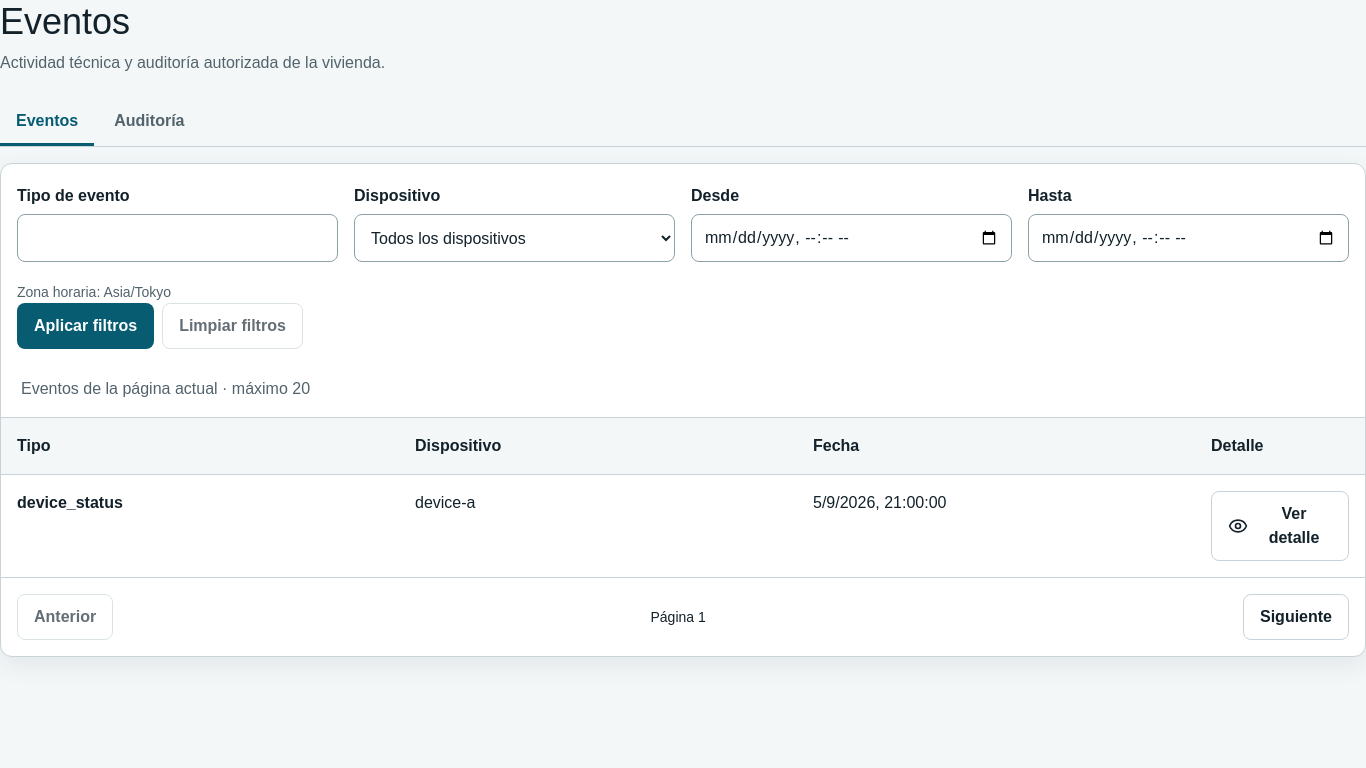
it: Eventos y auditoría › applies labeled filters, keyset pagination, and presents detail as bounded key/value rows
Check: the column heading "device_status" is shown, box [1, 475, 399, 577]
Check: the text "5/9/2026, 21:00:00" is shown, box [813, 494, 946, 511]
Type "camera_capture" into the field labelled "Tipo de evento" at (178, 238), box [17, 214, 338, 262]
Select "Entrada · PI-000001" in the dropdown labelled "Dispositivo" at (514, 238), box [354, 214, 675, 262]
Type "2026-09-01T00:00" into the field labelled "Desde" at (852, 238), box [691, 214, 1012, 262]
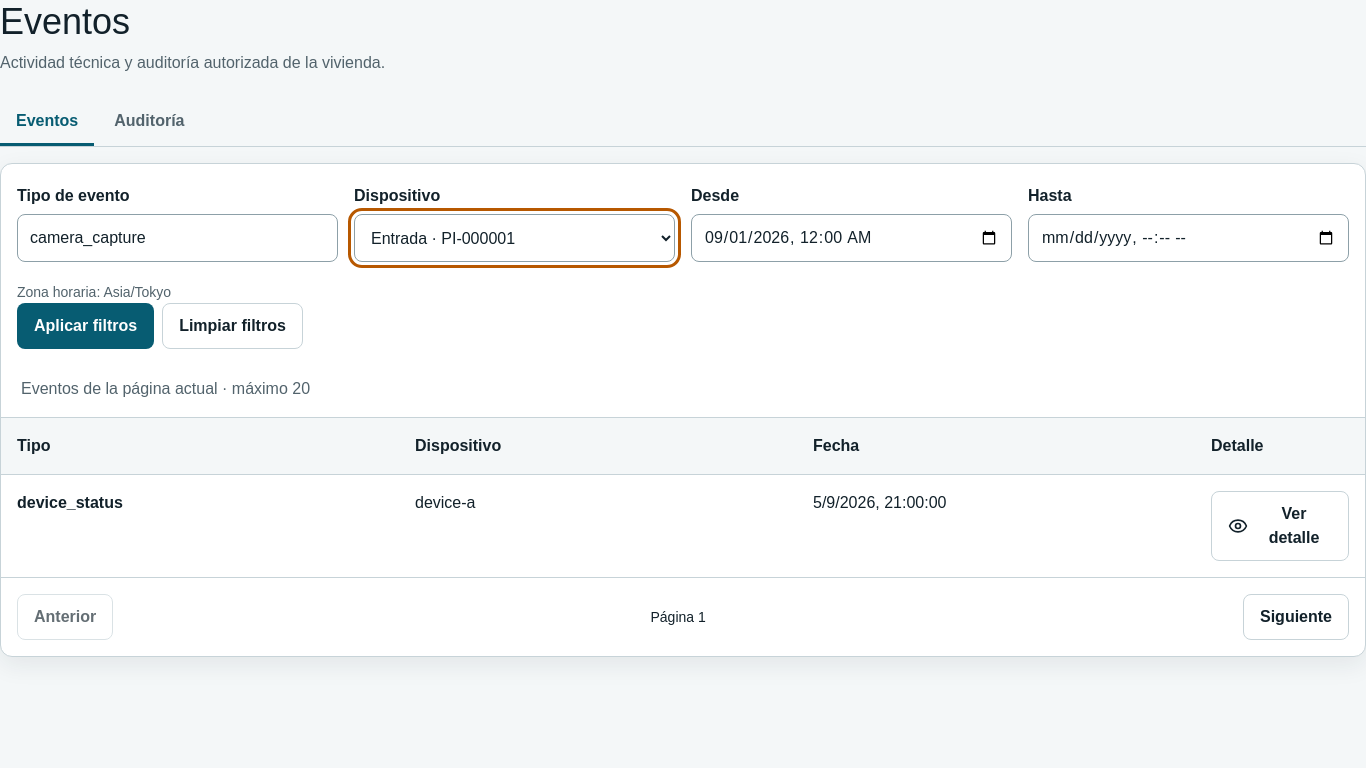
Type "2026-09-01T23:59" into the field labelled "Hasta" at (1188, 238), box [1028, 214, 1349, 262]
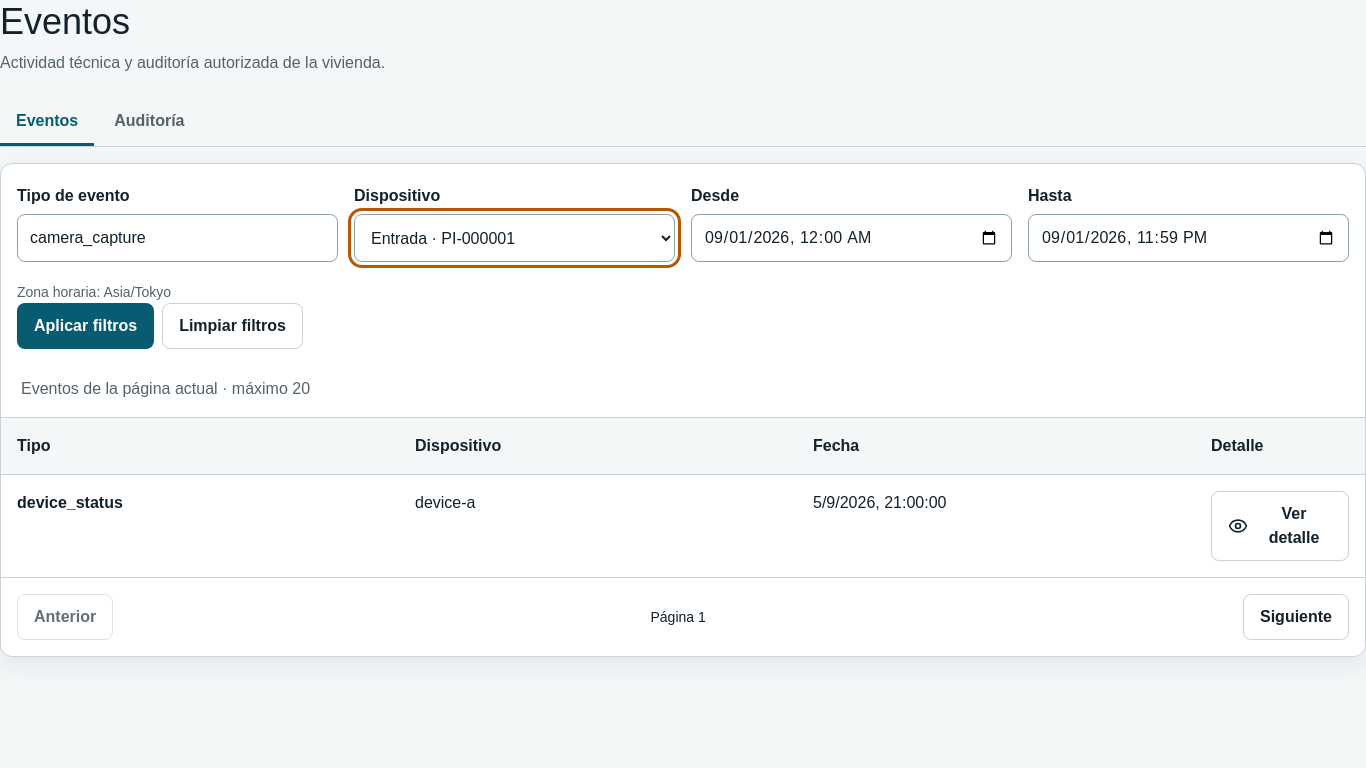
Click the button "Aplicar filtros" at (86, 326), box [17, 303, 154, 349]
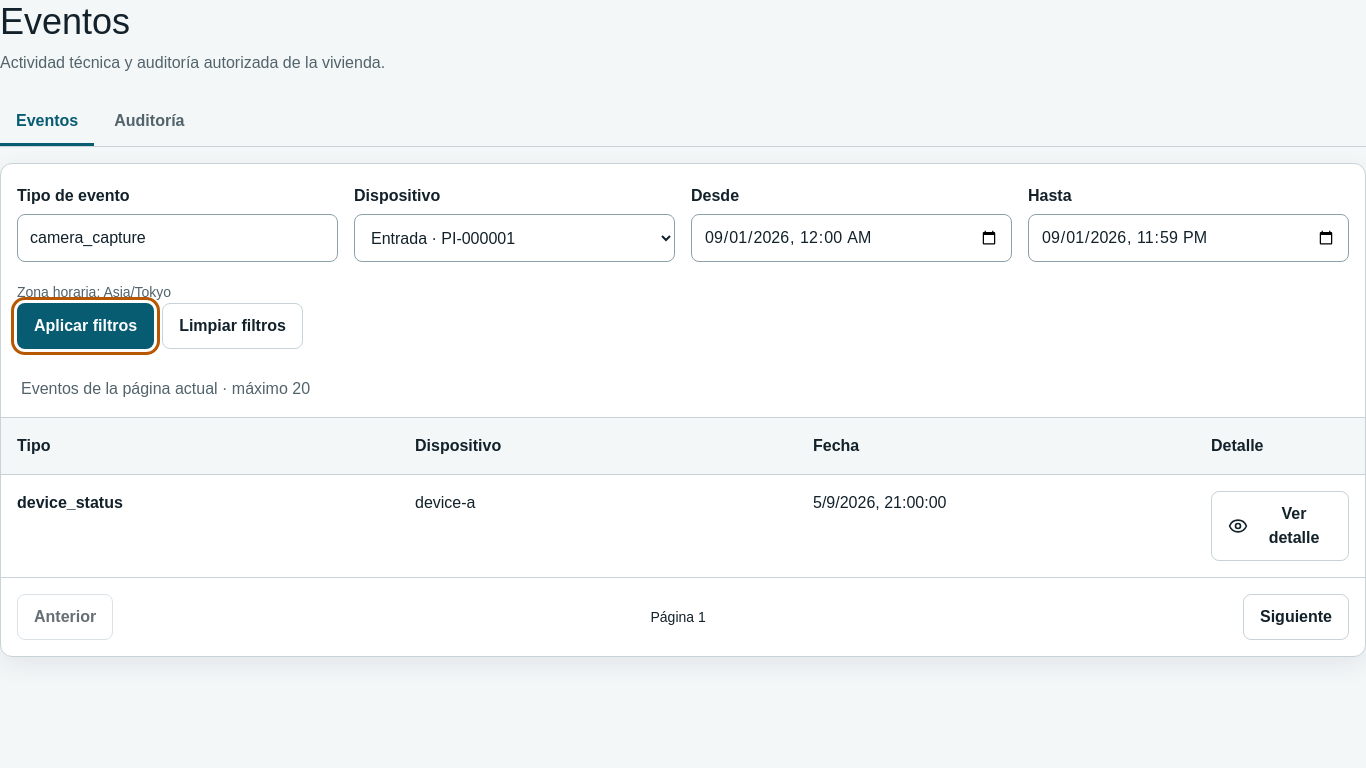
Click the button with aria-label "Ver detalle de device_status" at (1280, 526), box [1211, 491, 1349, 561]
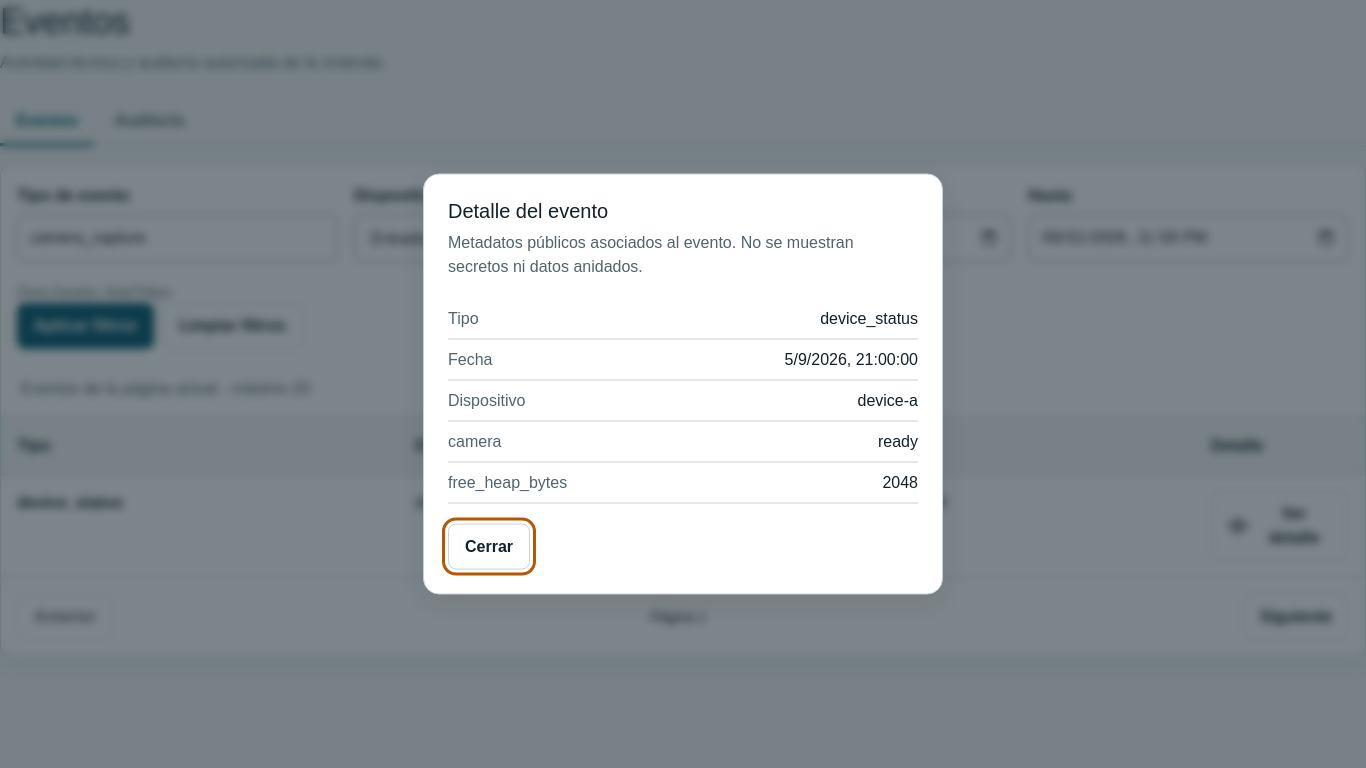
Check: the text "camera" is shown, box [448, 430, 501, 454]
Check: the text "ready" is shown, box [878, 430, 918, 454]
Check: the text "5/9/2026, 21:00:00" is shown, box [784, 350, 918, 368]
Click the button "Cerrar" at (489, 546), box [448, 524, 530, 570]
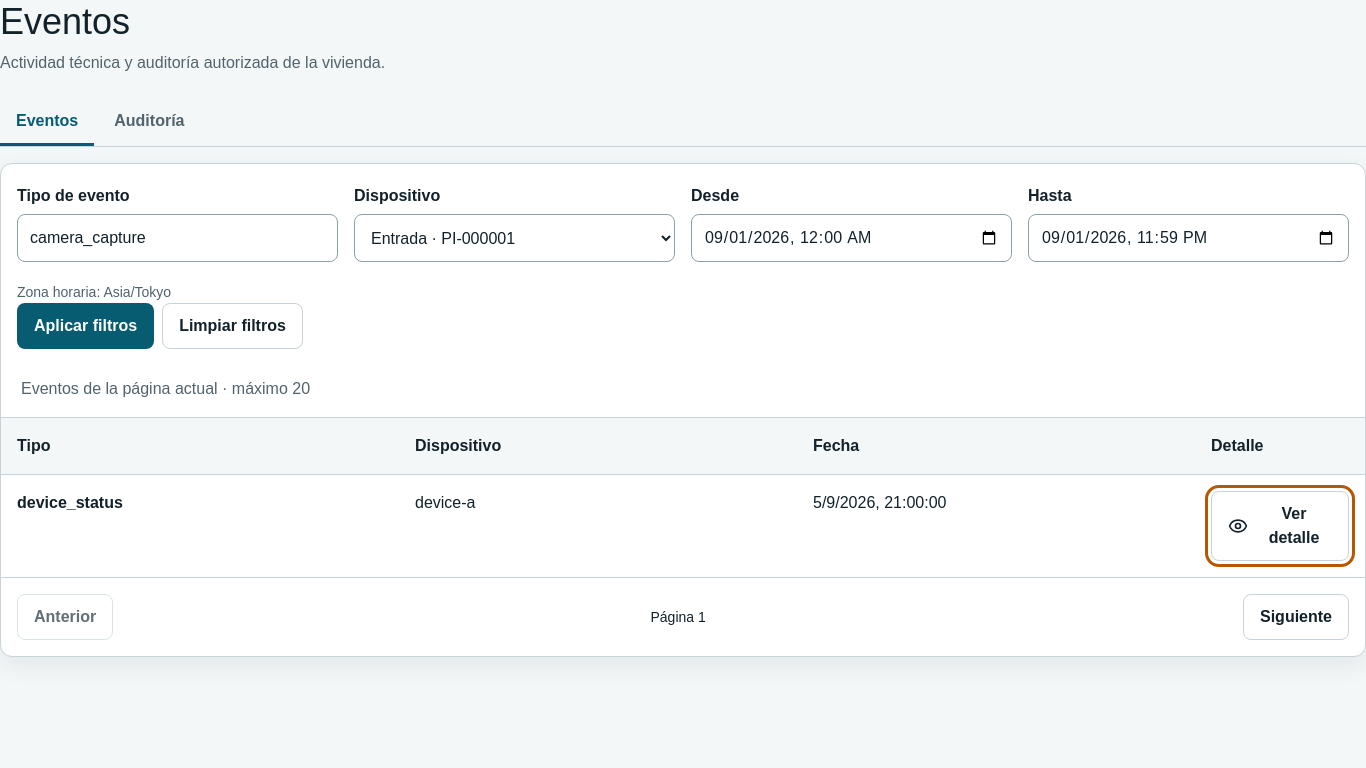
Click the button "Siguiente" at (1296, 617), box [1243, 594, 1349, 640]
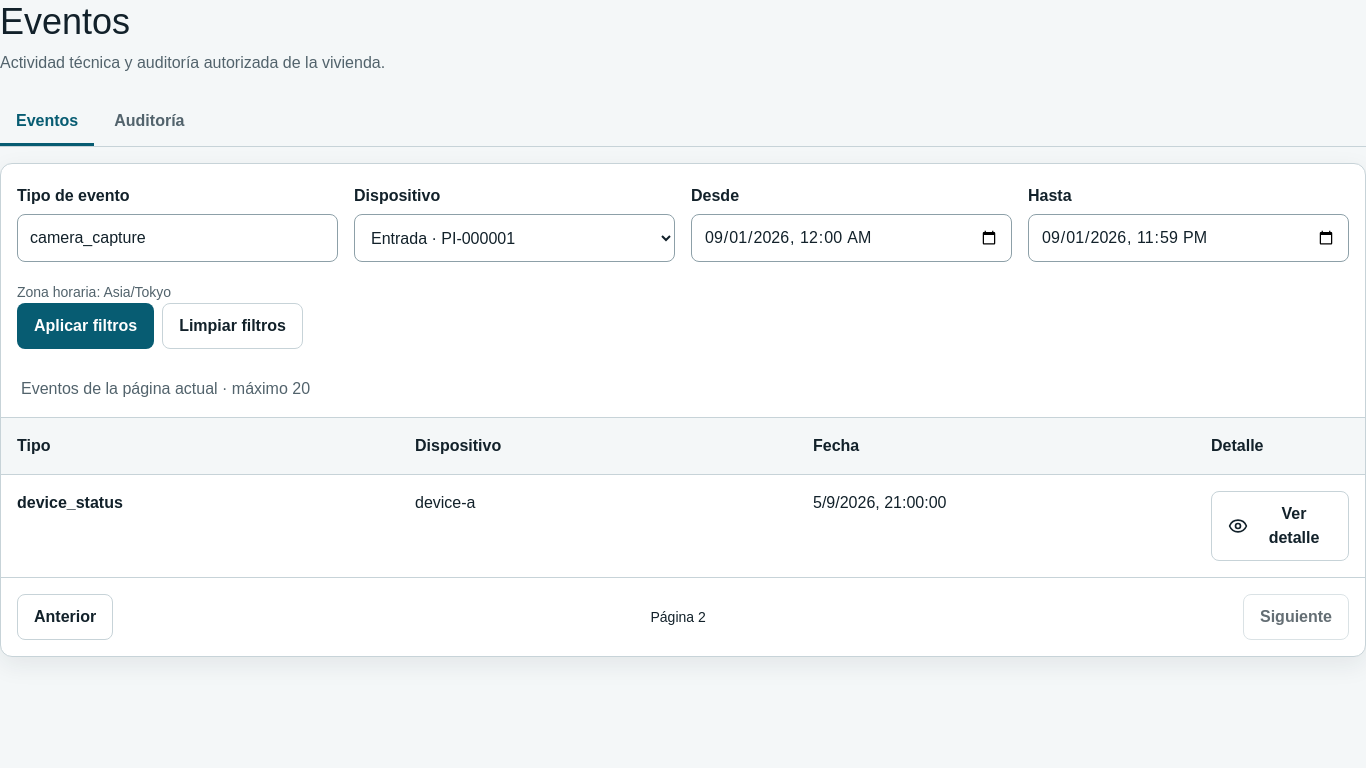
Check: the button "Anterior" is enabled, box [17, 594, 113, 640]
